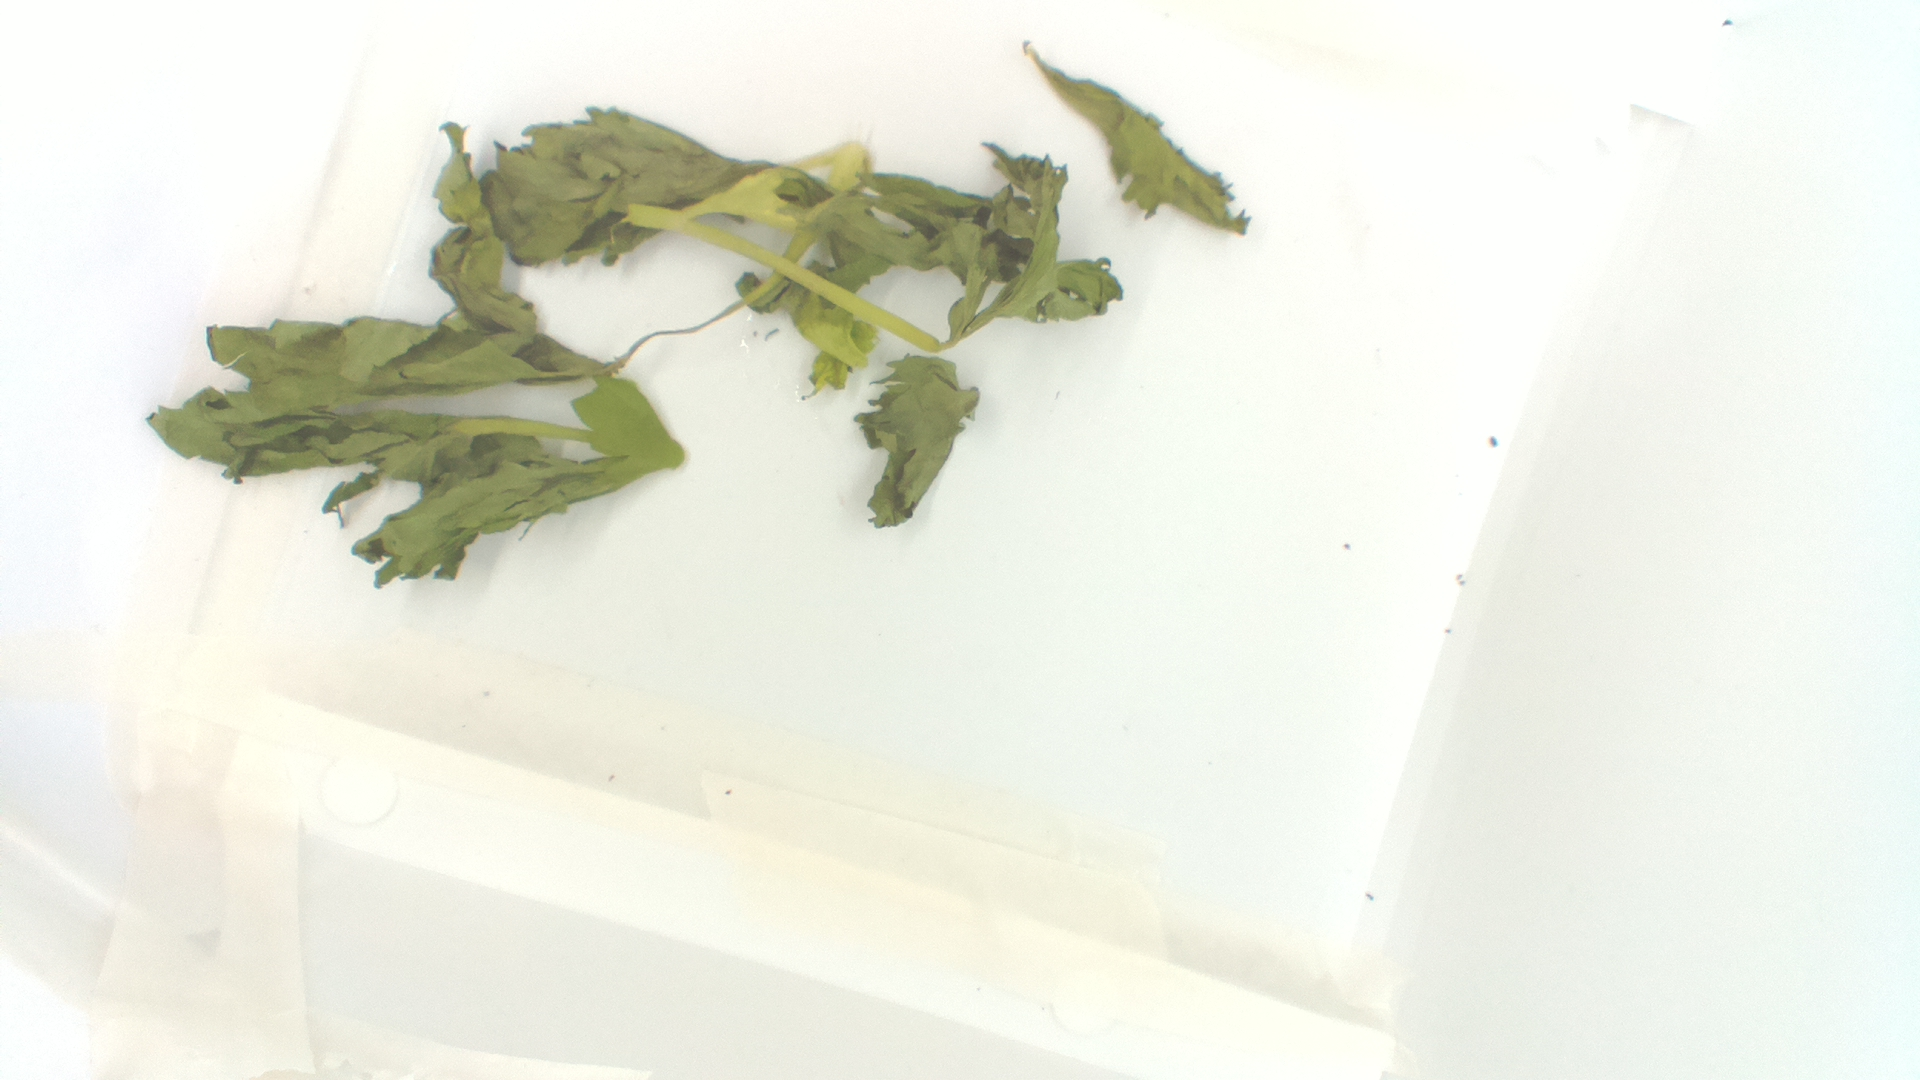vegetable: (144, 42, 1254, 600)
